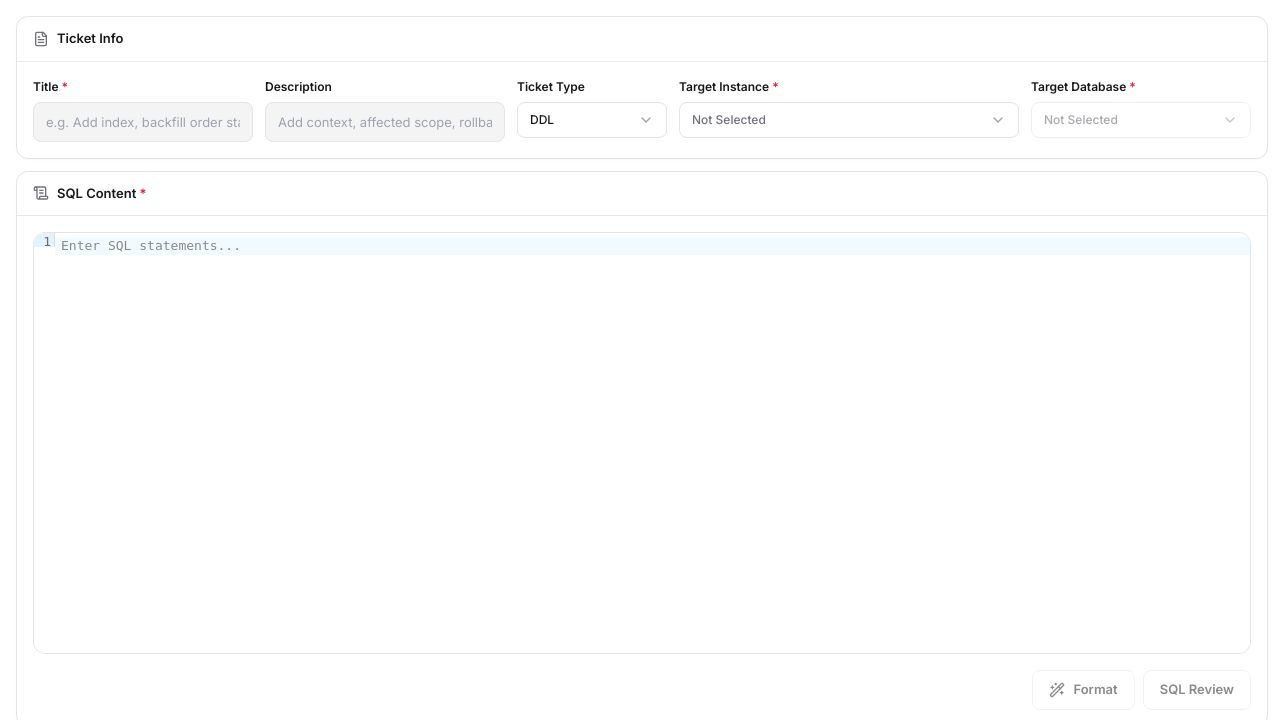
Test: NewTicketPage › renders English copy and target db labels without host or port
Expected: the text "Ticket Info" is shown, [57,29,123,48]
Expected: the field with placeholder "e.g. Add index, backfill order status" is shown, [33,102,253,142]
Click the button with aria-label "Target Instance": (729, 119) [679,102,1019,138]
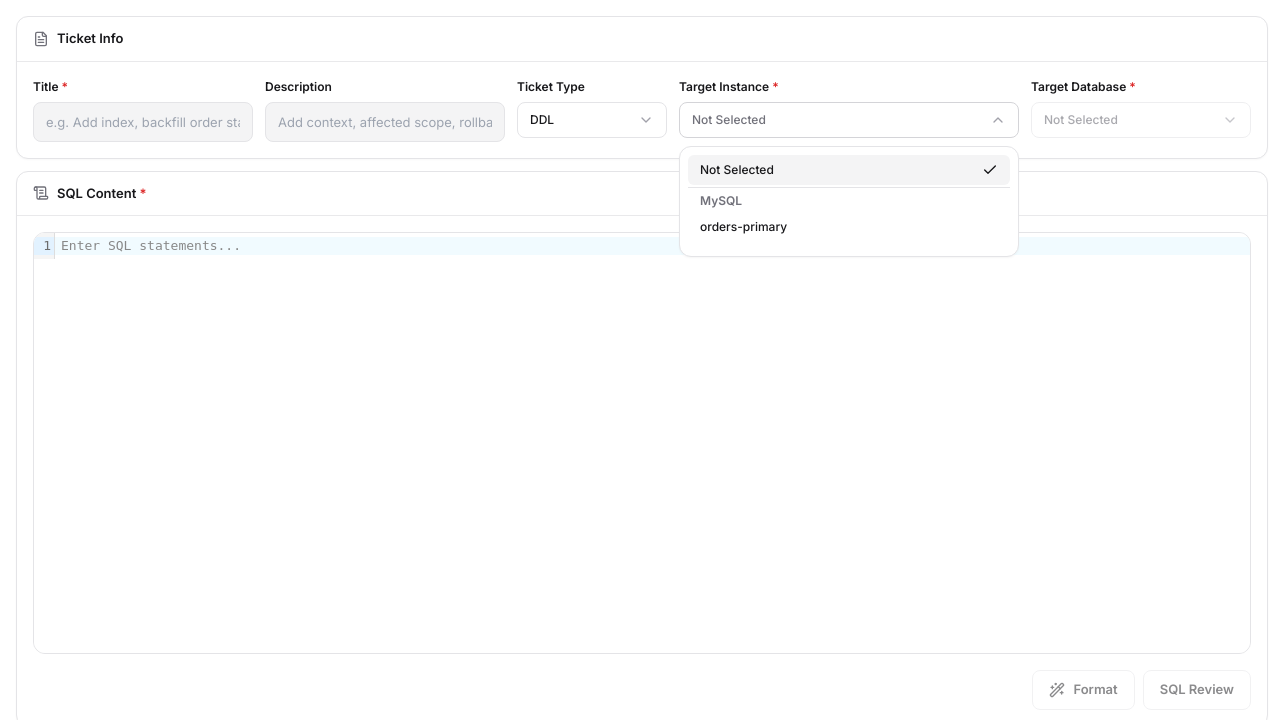
Now the option "Not Selected" is shown, box [688,154,1010,184]
Now the text "MySQL" is shown, box [700,192,742,208]
Now the option "orders-primary" is shown
Click the option "orders-primary": (744, 226) [688,212,1010,242]
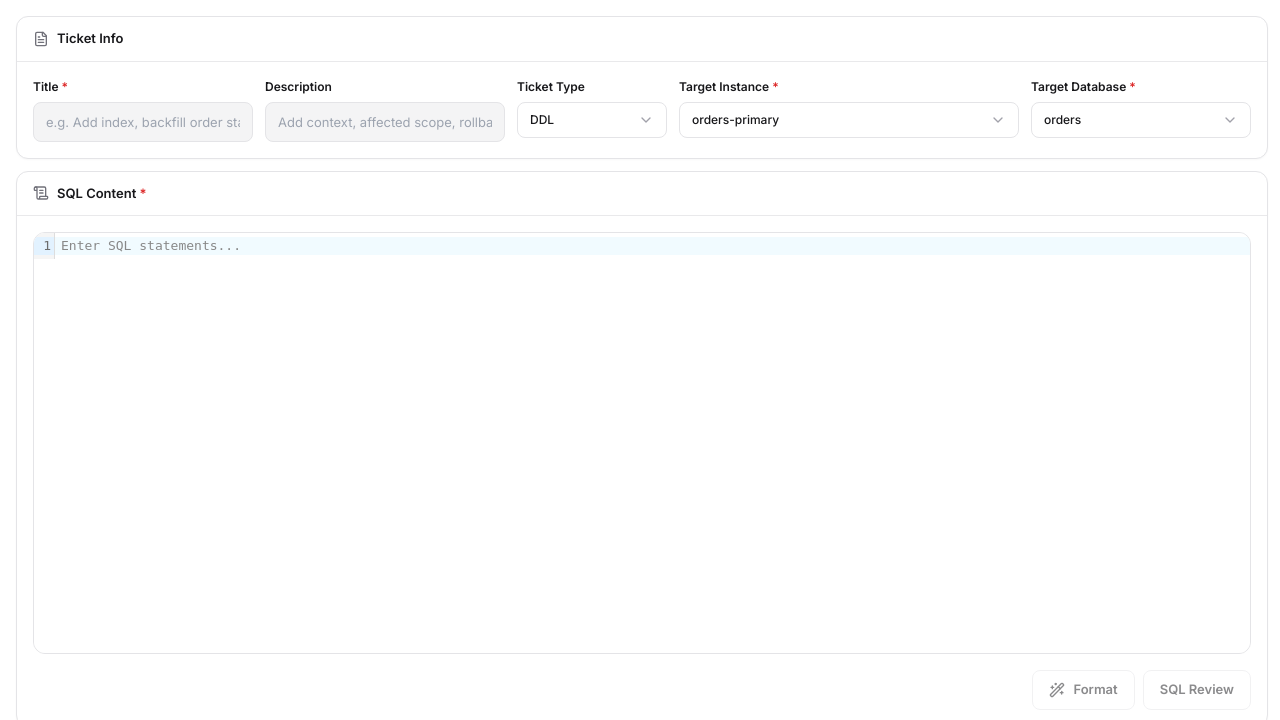
Now the button with aria-label "Target Database" reads "orders", box [1031,102,1251,138]
